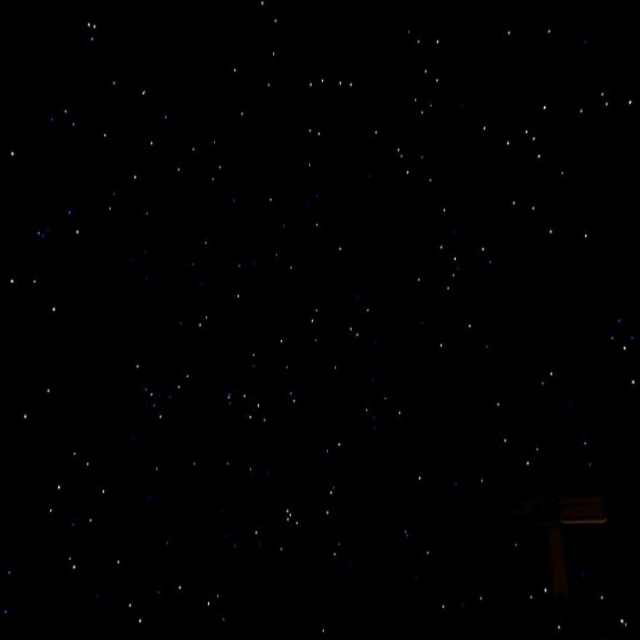satellite: (536, 458, 624, 599)
